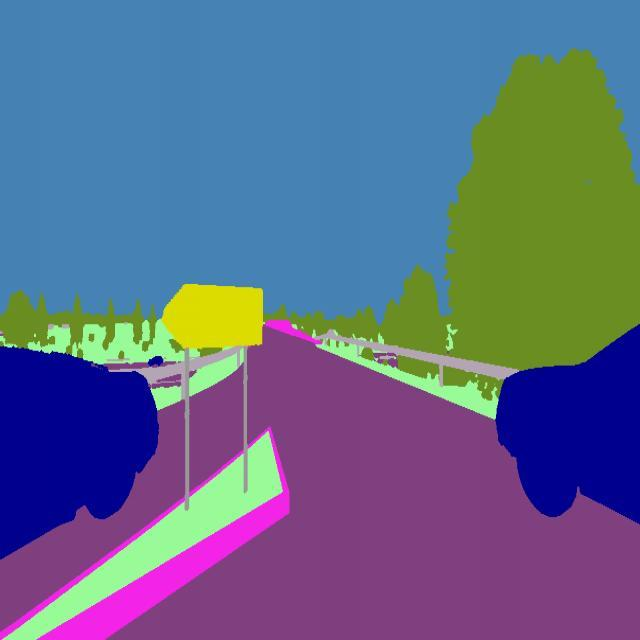safe: (0, 333, 160, 572), (494, 312, 640, 526)
